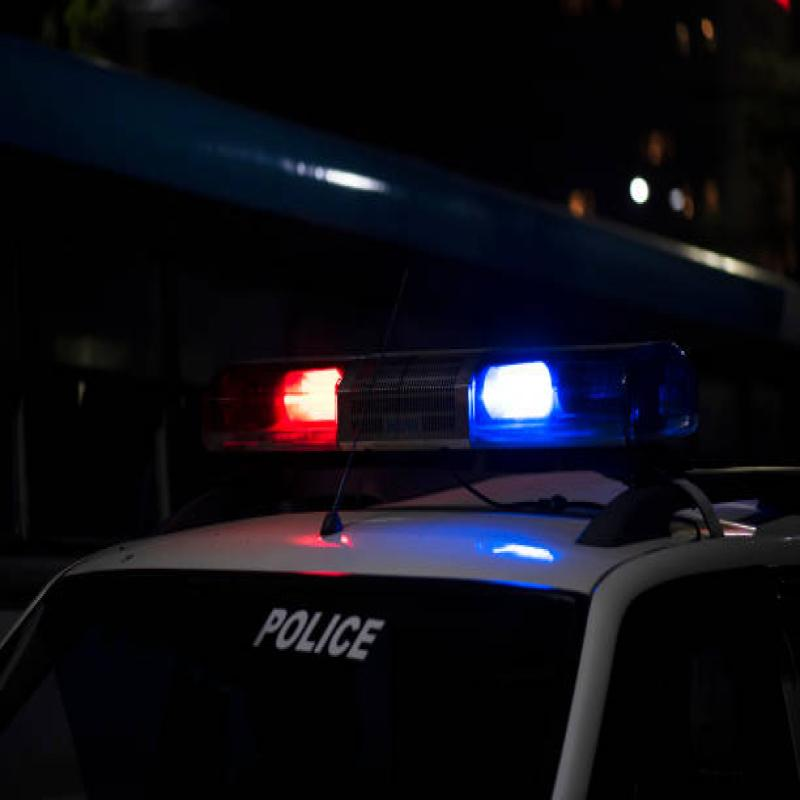AmbulanceSiren: (255, 298, 766, 495)
